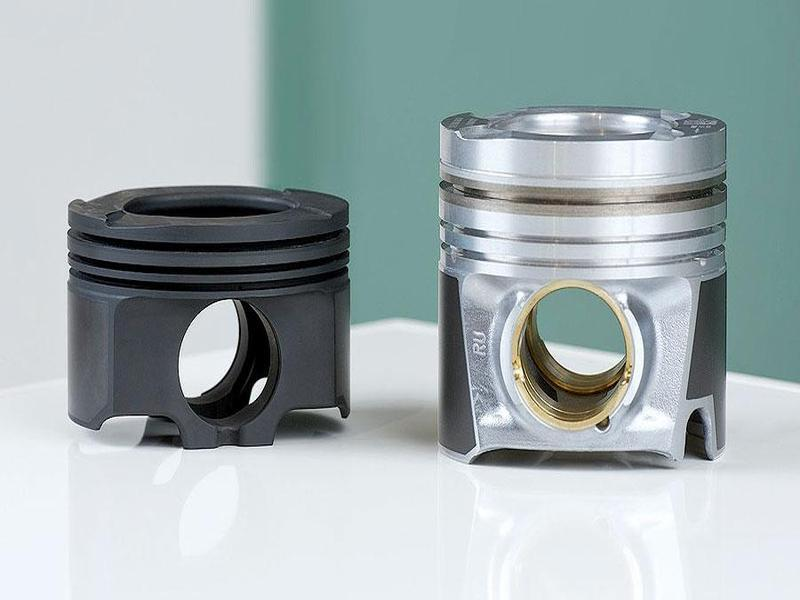piston: (415, 63, 742, 489), (52, 147, 370, 461)
